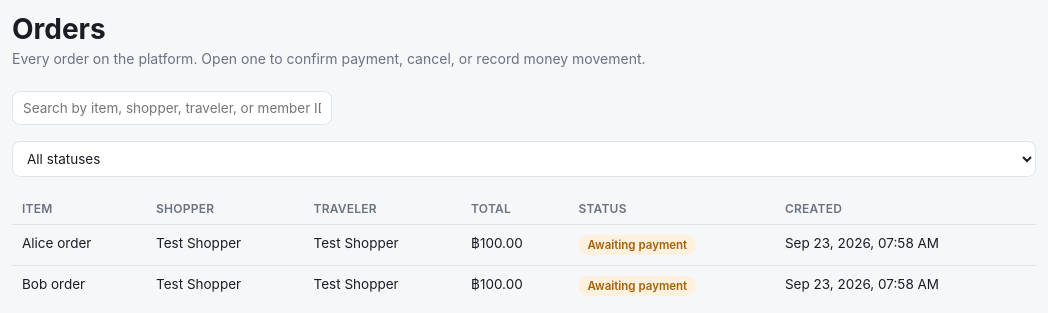
Test: OrdersListPage › finds an order by either party's membership ID
Check: the text "Alice order" is shown, box x1=12 y1=224 x2=146 y2=266
Type "H00000004" into the field with placeholder "Search by item, shopper, traveler, or member ID…". click: x=172, y=108
box: x1=12 y1=91 x2=332 y2=125
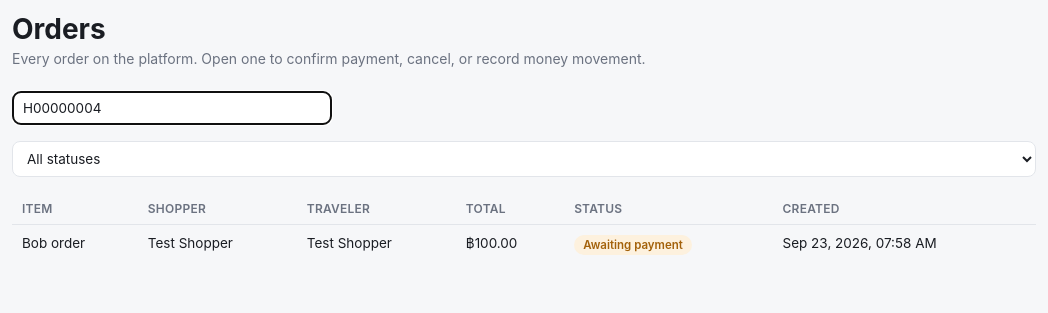
Check: the text "Bob order" is shown, box x1=12 y1=224 x2=138 y2=265
Check: the text "Alice order" is gone
